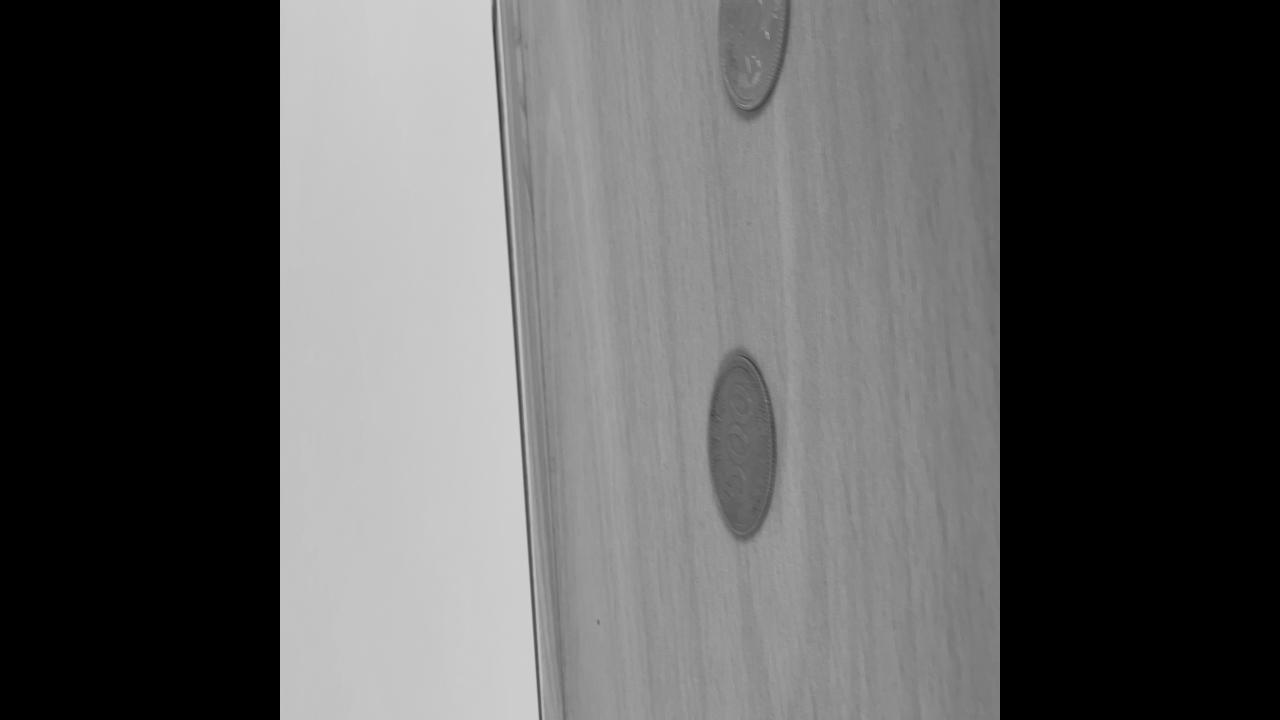coin: (704, 348, 778, 544), (714, 0, 790, 119)
